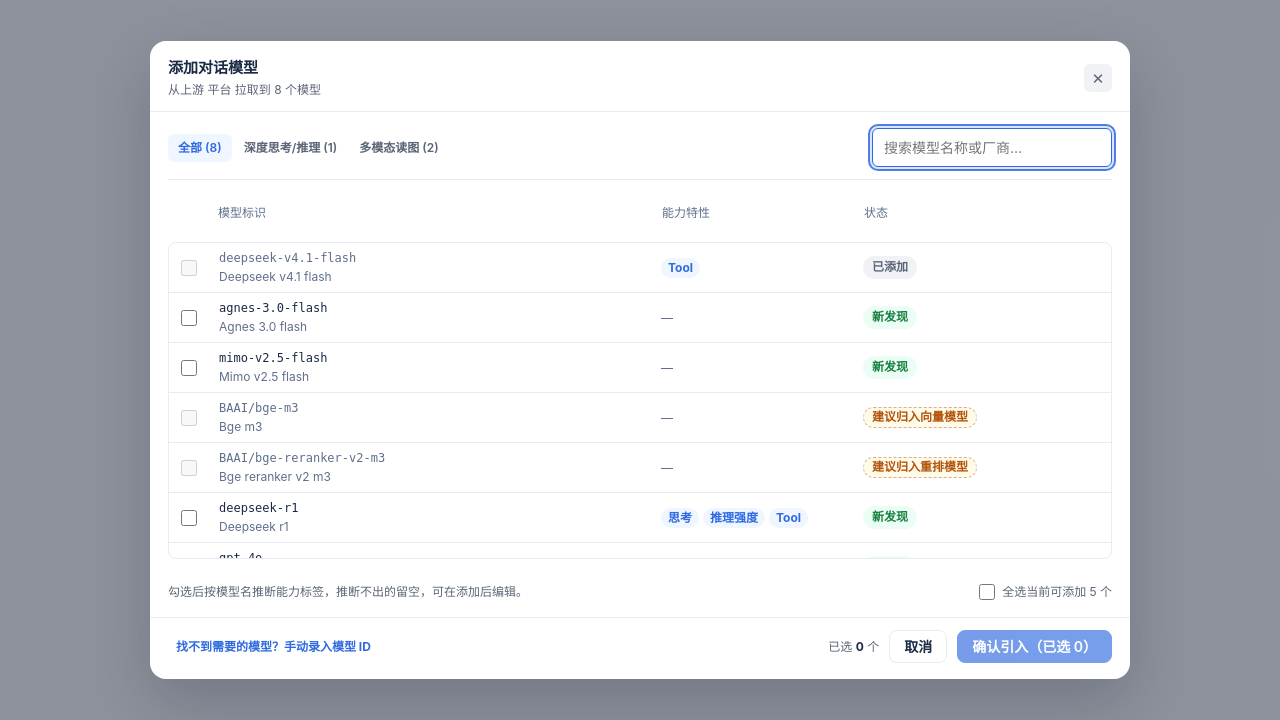
Test: PullModelsDialog › 分类页签：思考与读图只留推断命中的模型
Expected: the tab "全部 (8)" is shown, [168, 134, 232, 162]
Expected: the tab "多模态读图 (2)" is shown, [349, 134, 449, 162]
Click the tab "深度思考/推理 (1)" at (290, 148), box [234, 134, 347, 162]
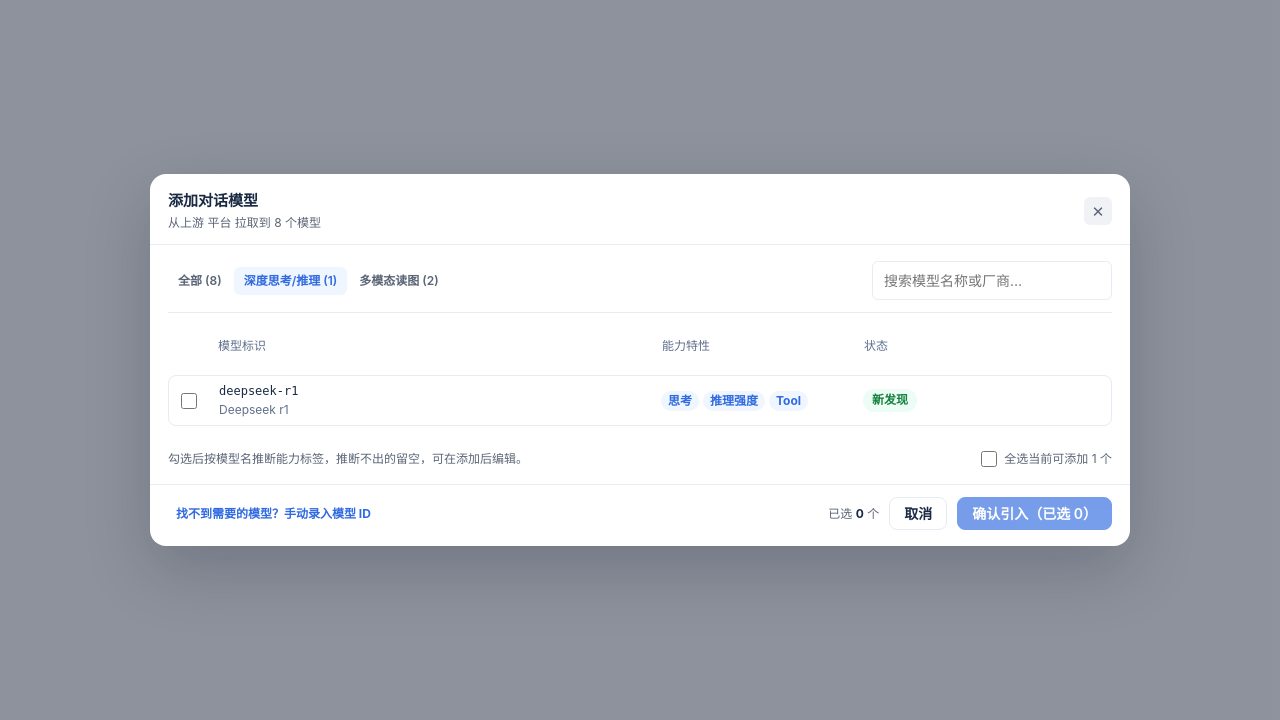
Click the tab "多模态读图 (2)" at (399, 281), box [349, 267, 449, 295]
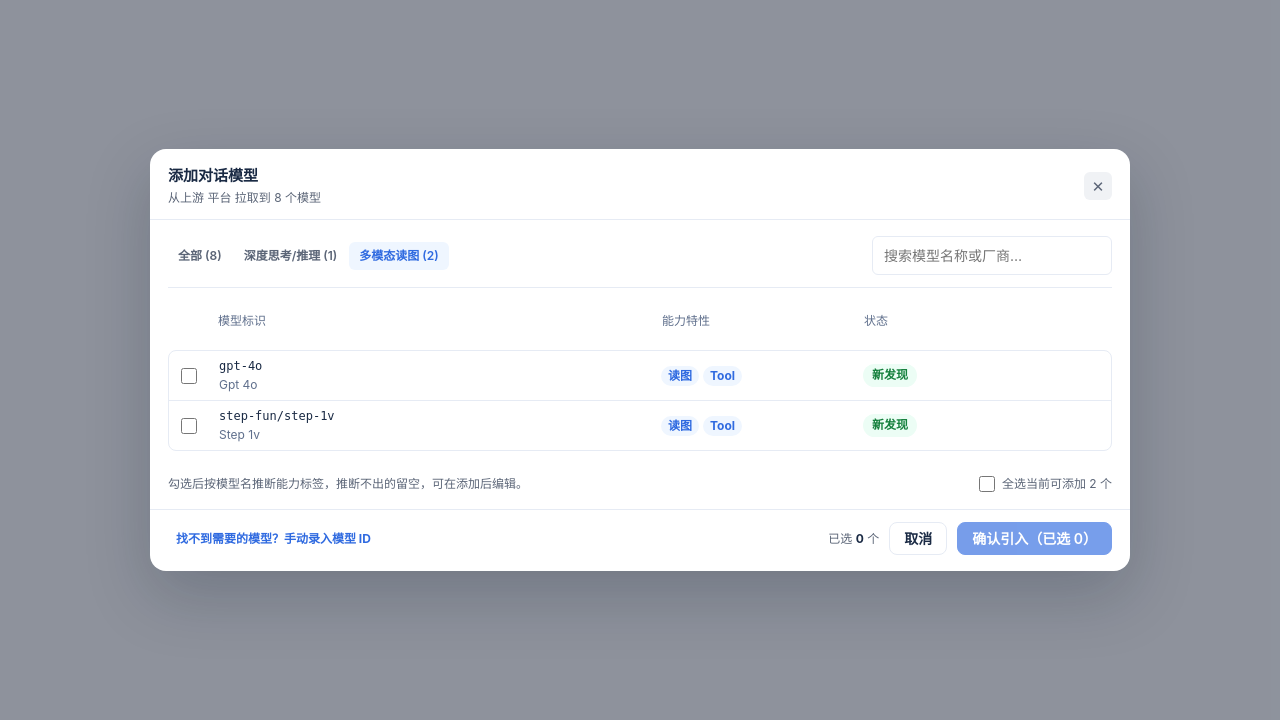
Now the text "gpt-4o" is shown, box [219, 359, 262, 373]
Now the text "step-1v" is shown, box [219, 409, 335, 423]
